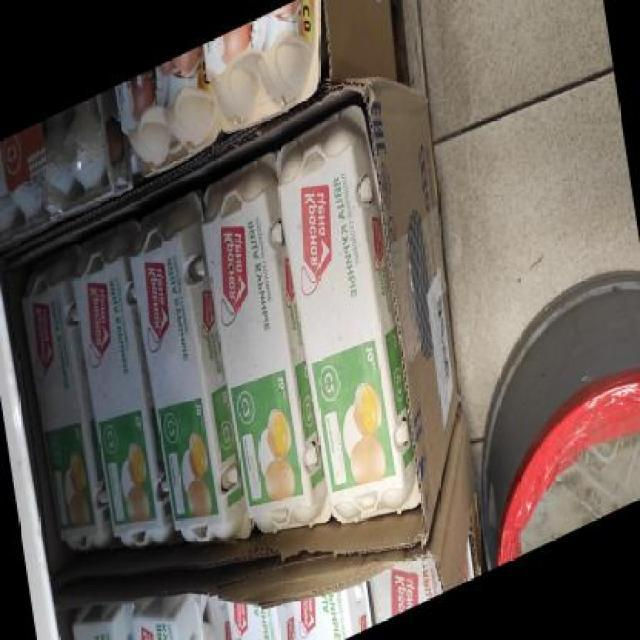Egg: (273, 102, 425, 549), (197, 152, 329, 555), (125, 192, 249, 571), (69, 228, 173, 566), (17, 252, 117, 571), (202, 0, 336, 146), (114, 45, 218, 188), (368, 542, 445, 624), (293, 572, 374, 640), (227, 573, 301, 639)
